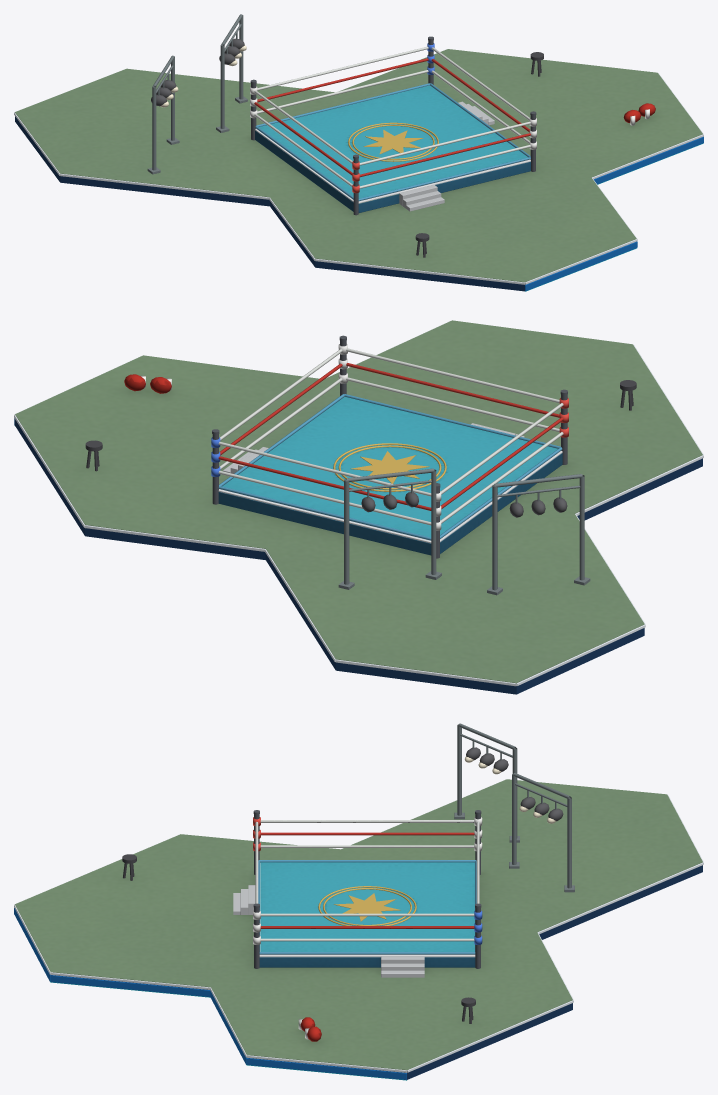
File: field_cm27_01.glb
The picture shows the model from 3 angles, top to bottom: view 1: azimuth 30°, elevation 25°; view 2: azimuth 150°, elevation 25°; view 3: azimuth 270°, elevation 25°; orthographic projection. The views are drawn at different scales.
Parts seen in each view (by area): view 1: field_cm27_01-refined; view 2: field_cm27_01-refined; view 3: field_cm27_01-refined.
Boxes of the visible parts, left/top/right/bottom form: field_cm27_01-refined: left=14, top=14, right=703, bottom=291; field_cm27_01-refined: left=14, top=320, right=703, bottom=694; field_cm27_01-refined: left=14, top=723, right=703, bottom=1080.
Size of the model in its own units: 14.93 by 2.49 by 14.93.
1 material, 1 textured.
